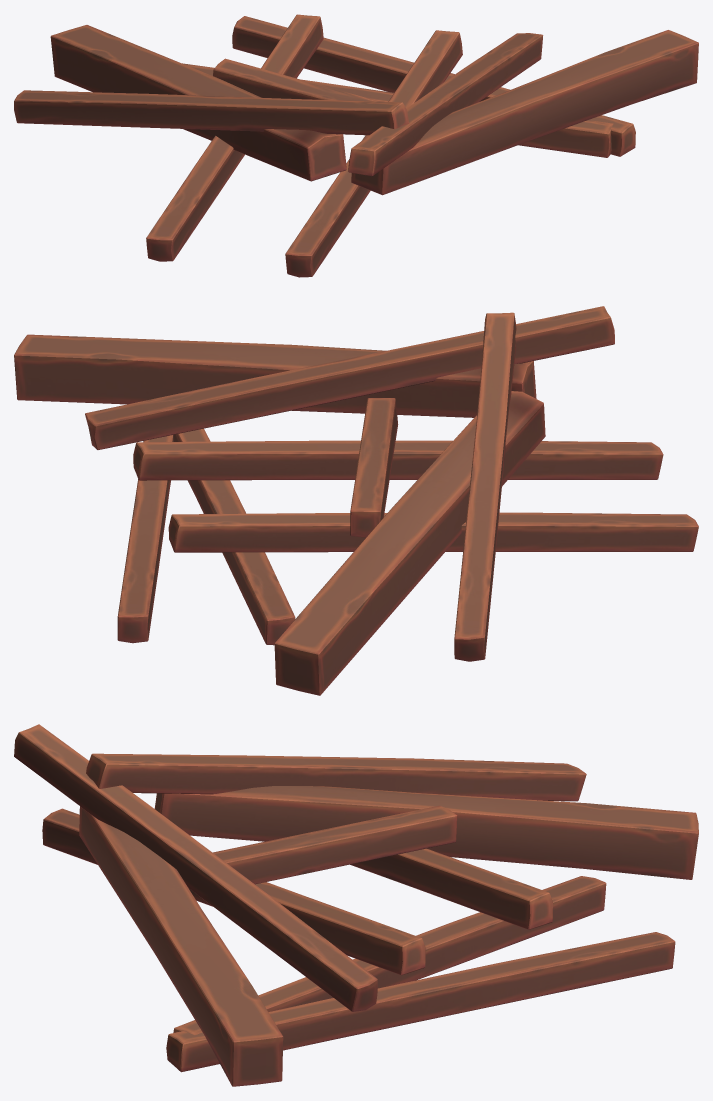
File: SM_Beams_Pile.glb
3 renders of one model, top to bottom at view 1: azimuth 30°, elevation 25°; view 2: azimuth 150°, elevation 25°; view 3: azimuth 270°, elevation 25°, orthographic. The views are drawn at different scales.
Parts seen in each view (by area): view 1: SM_Beams_Pile_LOD0; view 2: SM_Beams_Pile_LOD0; view 3: SM_Beams_Pile_LOD0.
Boxes of the visible parts, x1,y1,x2,y2 form: SM_Beams_Pile_LOD0: (14, 14, 698, 277); SM_Beams_Pile_LOD0: (14, 306, 698, 695); SM_Beams_Pile_LOD0: (14, 724, 698, 1086).
Bounding box in the file's own units: 1.92 × 0.4317 × 1.69.
Materials: 1 (1 with a texture image).
